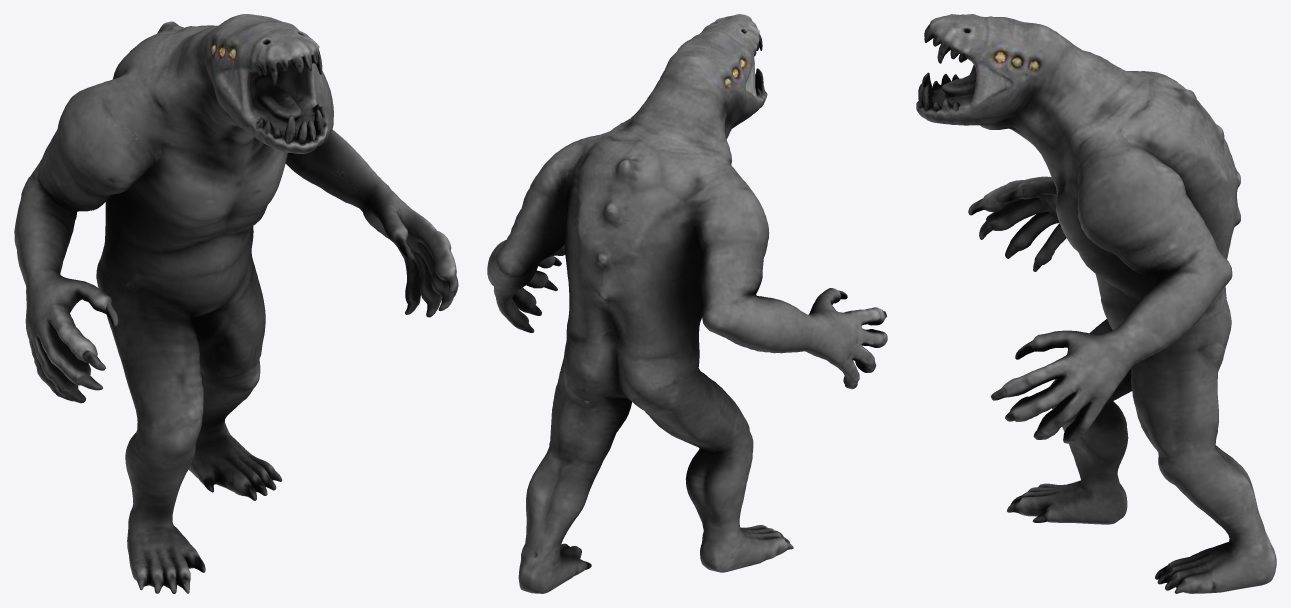
The model's file is MZ4250 - Gray Render-1.glb.
The picture shows the model from 3 angles, left to right: view 1: azimuth 30°, elevation 25°; view 2: azimuth 150°, elevation 25°; view 3: azimuth 270°, elevation 25°; orthographic projection. The views are drawn at different scales.
Visible parts, largest first — view 1: Body.002; view 2: Body.002; view 3: Body.002.
Part boxes in pixels (left/top/right/bottom): Body.002: left=14, top=14, right=458, bottom=593; Body.002: left=487, top=14, right=887, bottom=593; Body.002: left=916, top=14, right=1276, bottom=593.
Size of the model in its own units: 1.16 by 1.51 by 0.9288.
Materials: 1 (1 with a texture image).
